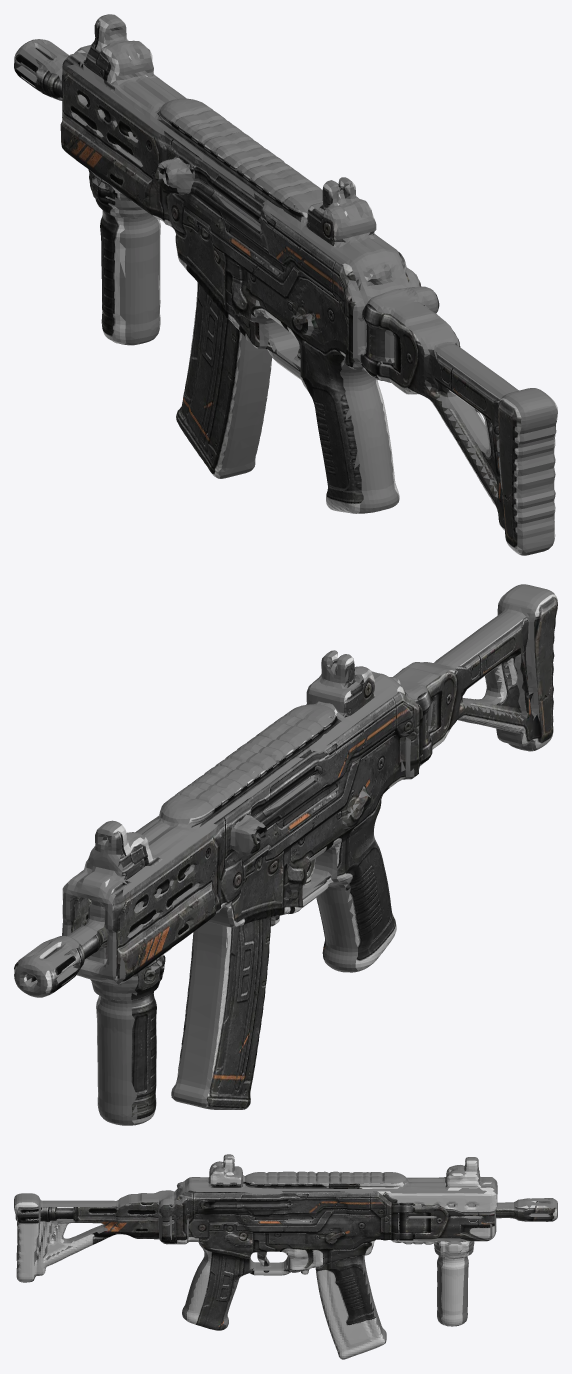
Rendered from viper.glb.
3 views of the same model, one above another, from view 1: azimuth 30°, elevation 25°; view 2: azimuth 150°, elevation 25°; view 3: azimuth 270°, elevation 25° (orthographic). The views are drawn at different scales.
Visible parts, largest first — view 1: geometry_0; view 2: geometry_0; view 3: geometry_0.
Part boxes in pixels (x1,y1,x2,y2): geometry_0: [14, 14, 557, 555]; geometry_0: [14, 584, 557, 1125]; geometry_0: [14, 1154, 557, 1359].
Bounding box in the file's own units: 0.0658 × 0.2628 × 0.65.
Materials: 1 (1 with a texture image).
